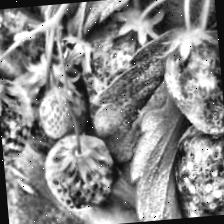Powdery Mildew Fruit: (161, 25, 224, 139), (76, 12, 150, 106), (42, 130, 119, 213), (168, 104, 224, 218), (0, 74, 37, 168), (35, 83, 76, 140)
